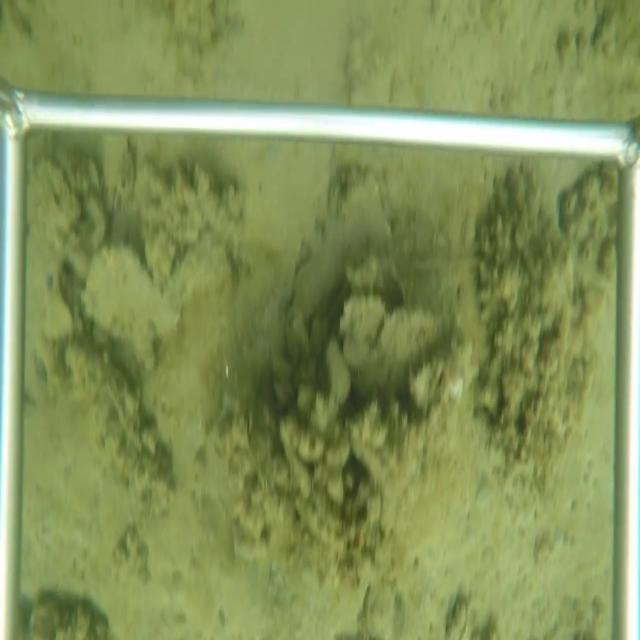Oyster-Indeterminate: (82, 242, 183, 345)
